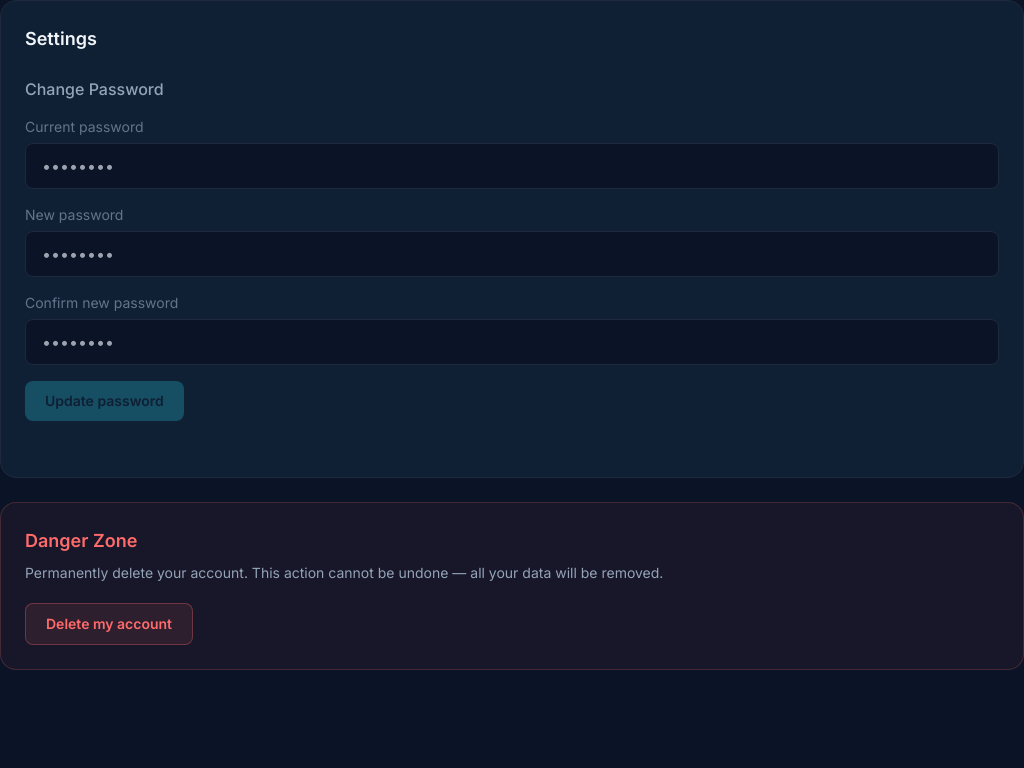
Scenario: AccountSettings — password change › rejects mismatched confirmation
Type "oldpass1" into the password field with placeholder "••••••••" below "Current password".
click(512, 166); type("oldpass1")  # box [25, 143, 999, 189]
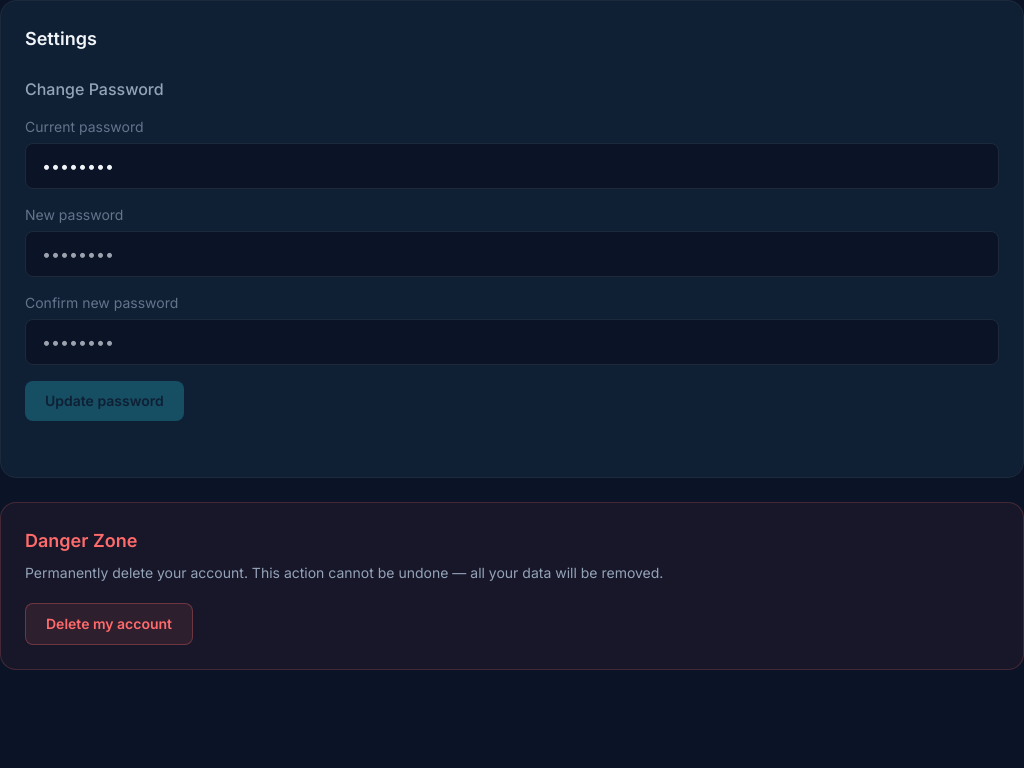
Type "newpass12" into the 1st password field with placeholder "••••••••".
click(512, 254); type("newpass12")  # box [25, 231, 999, 277]
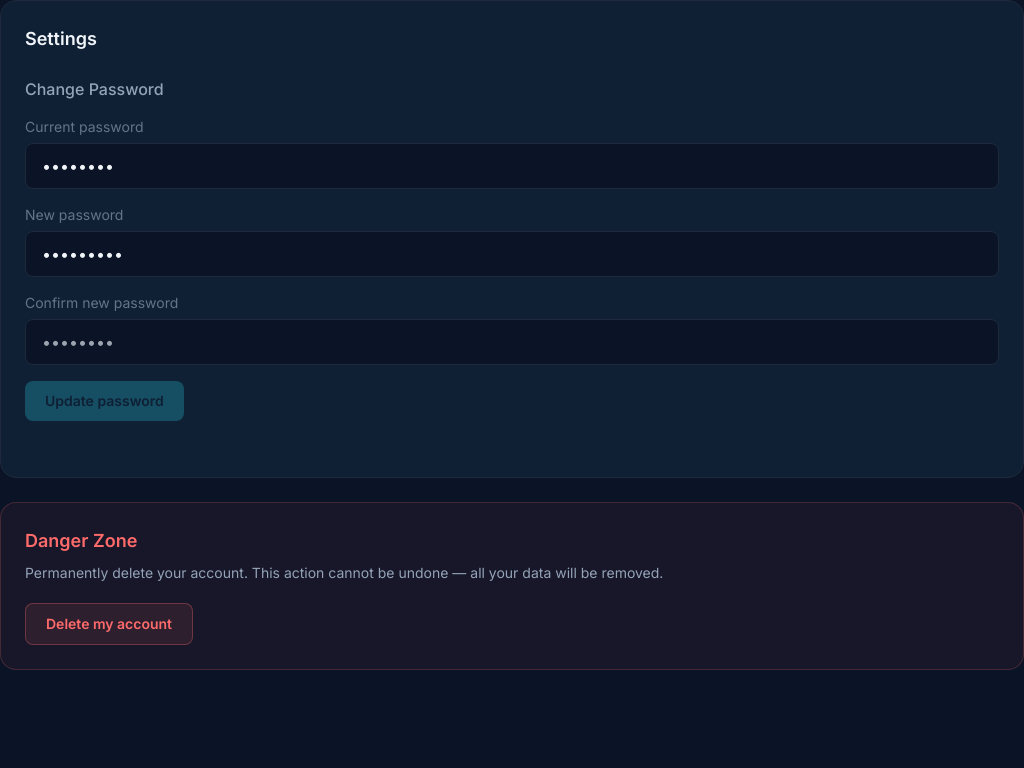
Type "different" into the password field with placeholder "••••••••".
click(512, 342); type("different")  # box [25, 319, 999, 365]
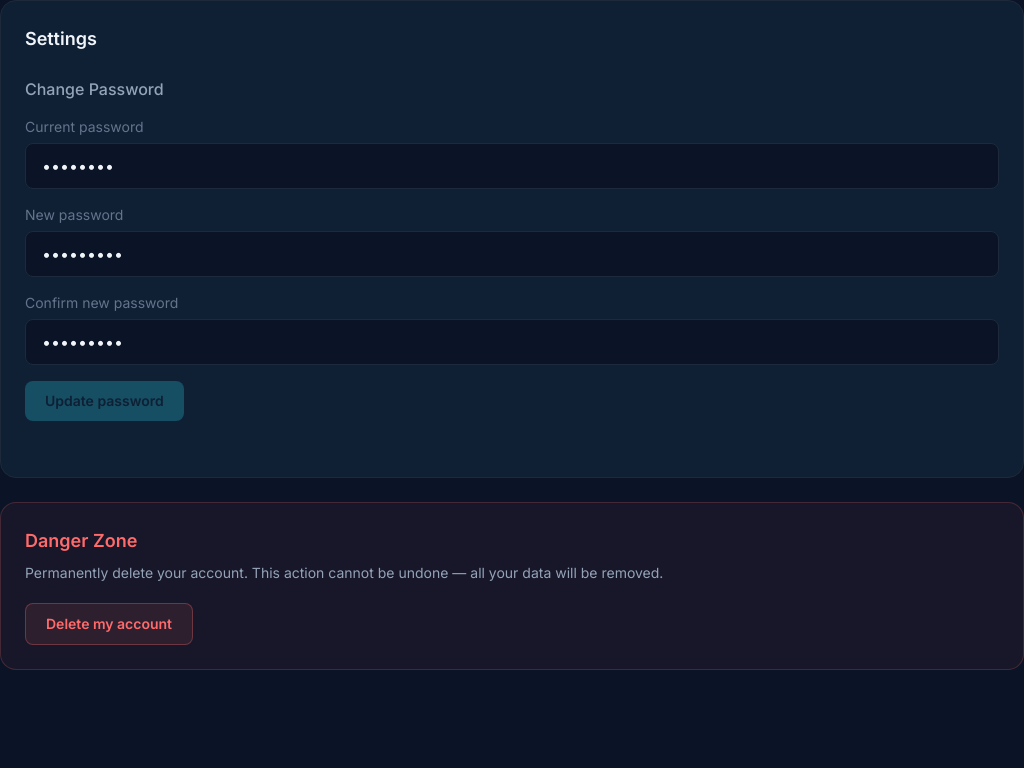
Submit the form, box [25, 117, 999, 421]
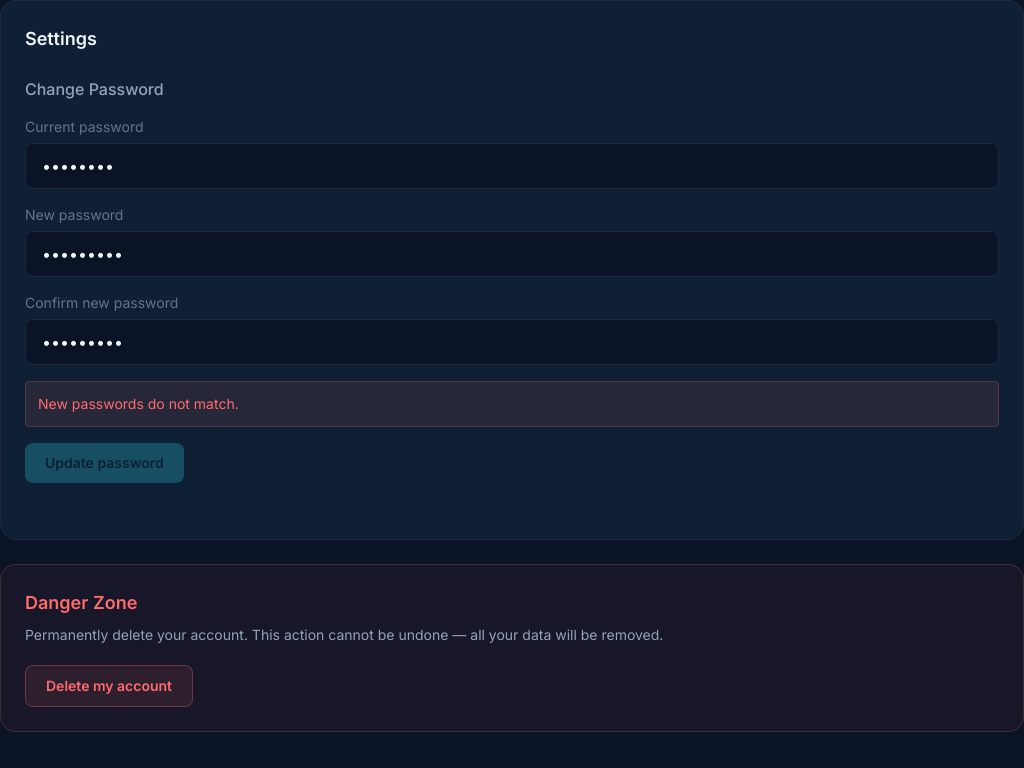
Expected: the text "do not match" is shown, [38, 395, 239, 412]
